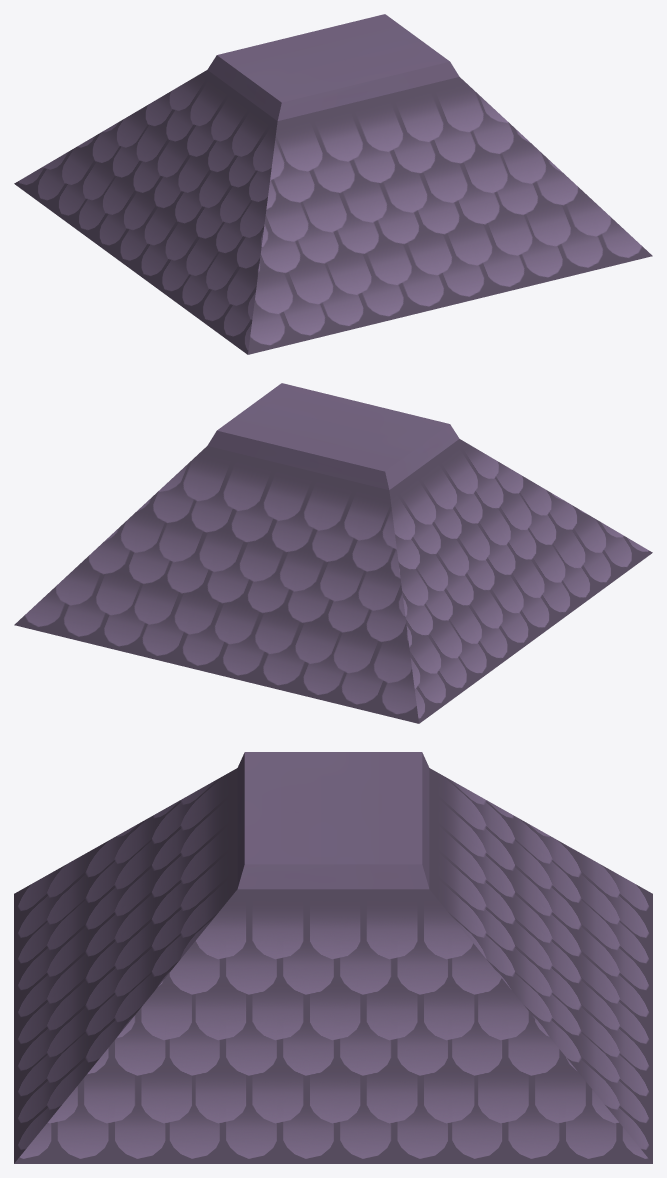
The model's file is Purple_Roof_geo.fbx.
The picture shows the model from 3 angles, top to bottom: view 1: azimuth 30°, elevation 25°; view 2: azimuth 150°, elevation 25°; view 3: azimuth 270°, elevation 25°; orthographic projection. The views are drawn at different scales.
Visible parts, largest first — view 1: Purple_roof; view 2: Purple_roof; view 3: Purple_roof.
Boxes of the visible parts, x1=… form: Purple_roof: x1=14, y1=14, x2=652, y2=354; Purple_roof: x1=14, y1=383, x2=652, y2=723; Purple_roof: x1=14, y1=752, x2=652, y2=1163.
Bounding box in the file's own units: 12.47 × 4.75 × 12.47.
Materials: 1 (1 with a texture image).
